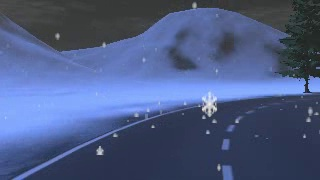Lane: (10, 92, 319, 179)
